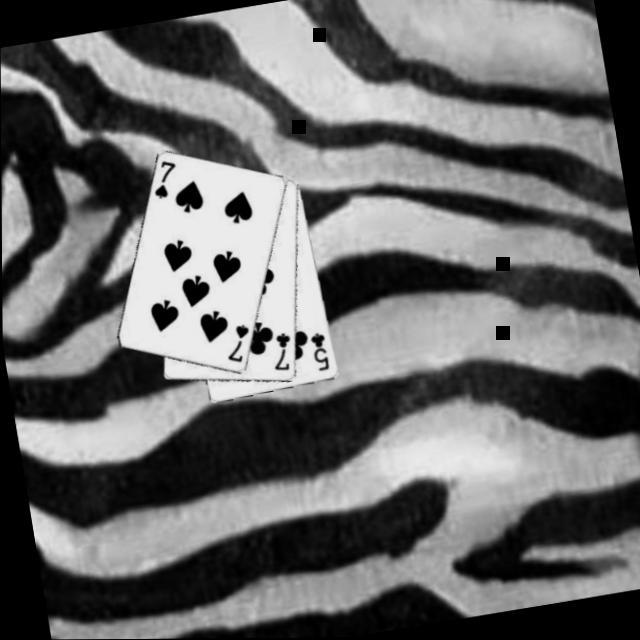5C: (307, 327, 334, 374)
7C: (267, 328, 298, 373)
7S: (221, 319, 257, 365), (148, 154, 184, 200)
